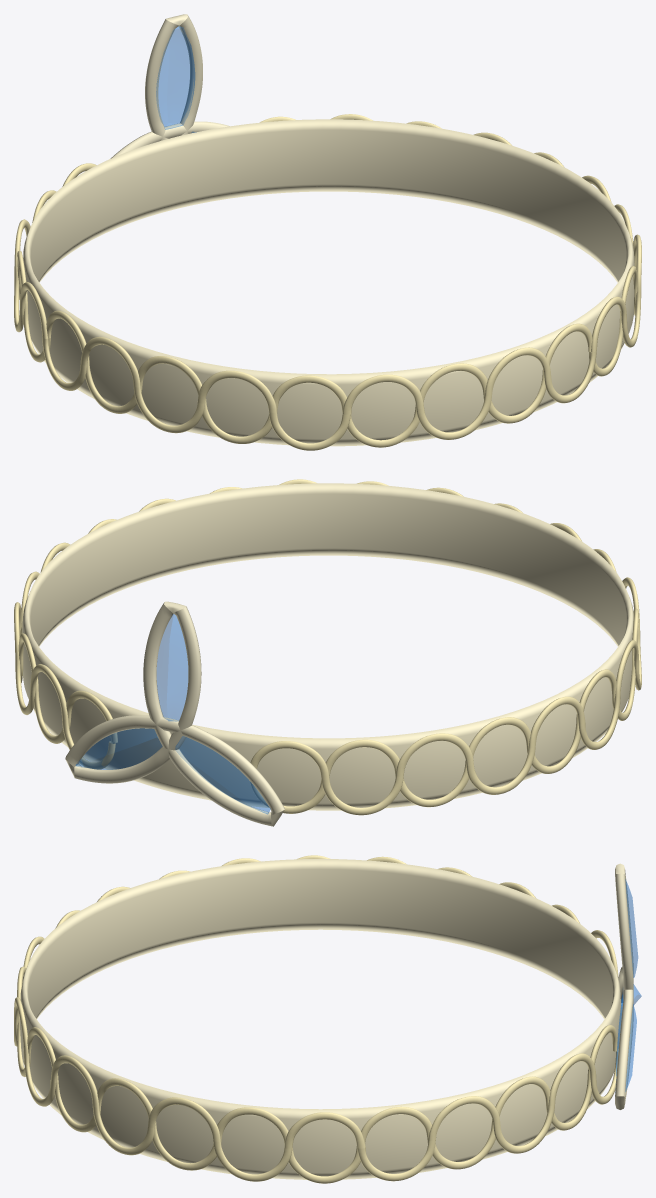
The model's file is crown2.glb.
The picture shows the model from 3 angles, top to bottom: view 1: azimuth 30°, elevation 25°; view 2: azimuth 150°, elevation 25°; view 3: azimuth 270°, elevation 25°; orthographic projection.
Visible parts, largest first — view 1: pPipe7, MASH1_ReproMesh1, MASH1_ReproMesh, pCylinder4, pCylinder5; view 2: pPipe7, pCylinder4, MASH1_ReproMesh1, MASH1_ReproMesh, pCylinder7, pCylinder5, pCylinder6; view 3: pPipe7, MASH1_ReproMesh1, MASH1_ReproMesh, pCylinder4, pCylinder6, pCylinder5.
Part boxes in pixels (x1=…): pPipe7: x1=23, y1=119, x2=634, y2=446; MASH1_ReproMesh1: x1=14, y1=114, x2=641, y2=450; MASH1_ReproMesh: x1=17, y1=116, x2=637, y2=447; pCylinder4: x1=110, y1=14, x2=229, y2=158; pCylinder5: x1=156, y1=26, x2=194, y2=129; pPipe7: x1=22, y1=483, x2=633, y2=810; pCylinder4: x1=65, y1=601, x2=284, y2=826; MASH1_ReproMesh1: x1=14, y1=479, x2=641, y2=815; MASH1_ReproMesh: x1=18, y1=481, x2=638, y2=813; pCylinder7: x1=175, y1=736, x2=270, y2=814; pCylinder5: x1=157, y1=614, x2=187, y2=721; pCylinder6: x1=76, y1=728, x2=162, y2=769; pPipe7: x1=20, y1=859, x2=621, y2=1179; MASH1_ReproMesh1: x1=14, y1=856, x2=618, y2=1181; MASH1_ReproMesh: x1=17, y1=855, x2=617, y2=1183; pCylinder4: x1=615, y1=863, x2=633, y2=1109; pCylinder6: x1=616, y1=995, x2=636, y2=1091; pCylinder5: x1=625, y1=879, x2=637, y2=977.
Bounding box in the file's own units: 6.1 × 2.12 × 6.22.
